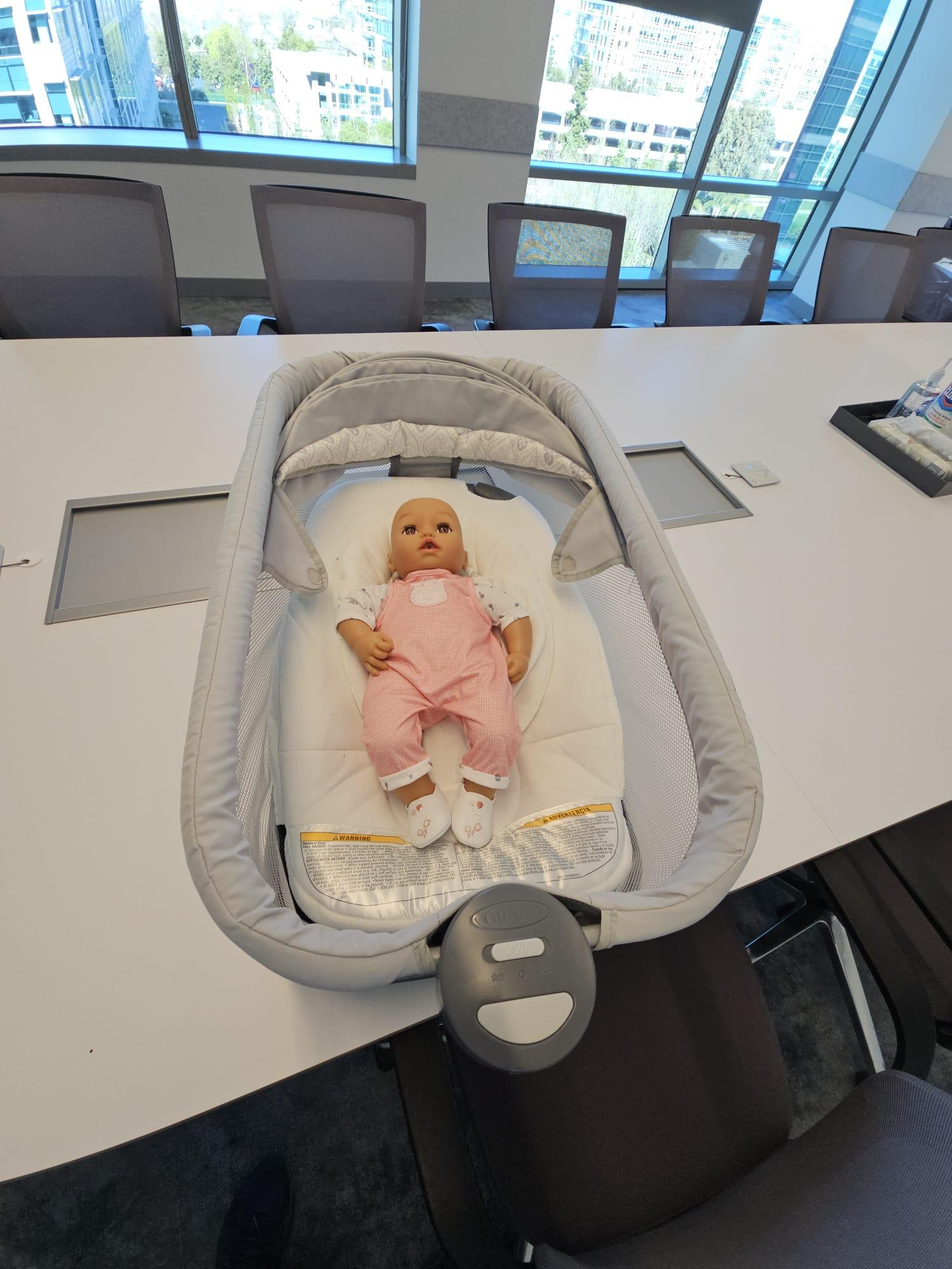baby: (317, 476, 572, 871)
